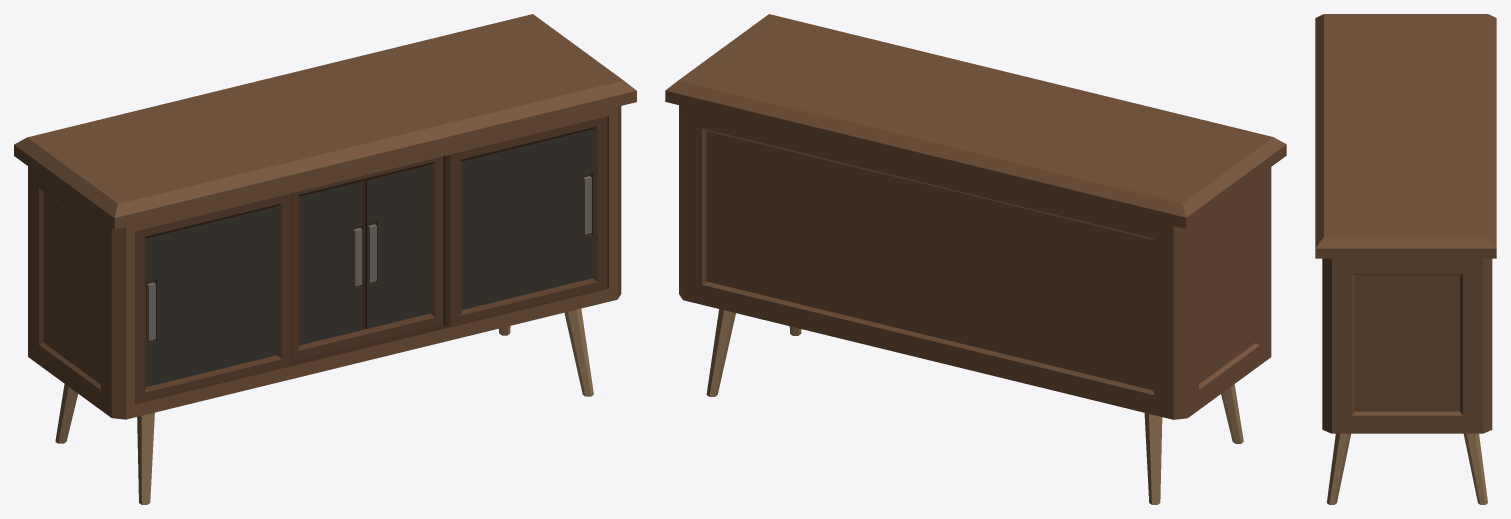
File: sideboard-dd343b.glb
The picture shows the model from 3 angles, left to right: view 1: azimuth 30°, elevation 25°; view 2: azimuth 150°, elevation 25°; view 3: azimuth 270°, elevation 25°; orthographic projection. The views are drawn at different scales.
Parts seen in each view (by area): view 1: sideboard, door-3, door-1, door-2; view 2: sideboard; view 3: sideboard.
Boxes of the visible parts, x1,y1,x2,y2 form: sideboard: (14, 14, 636, 504); door-3: (443, 116, 607, 326); door-1: (135, 193, 292, 403); door-2: (293, 156, 443, 360); sideboard: (665, 14, 1286, 504); sideboard: (1315, 14, 1496, 504).
Bounding box in the file's own units: 1.5 × 0.85 × 0.5.
